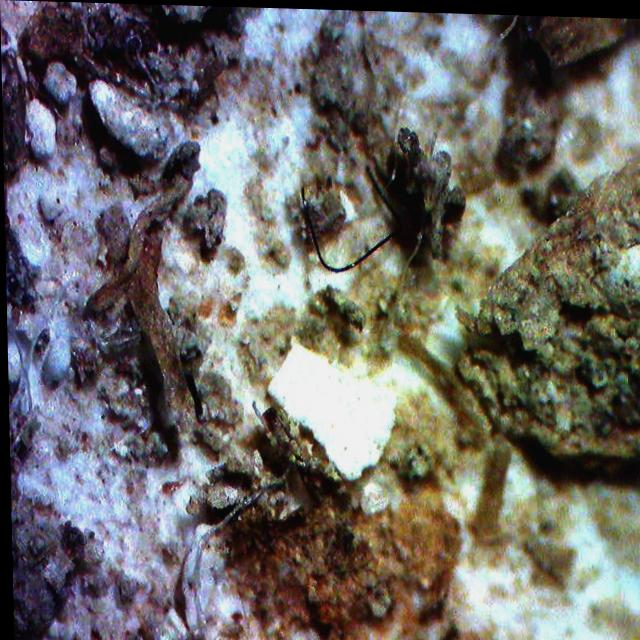microplastic: (293, 157, 412, 278)
